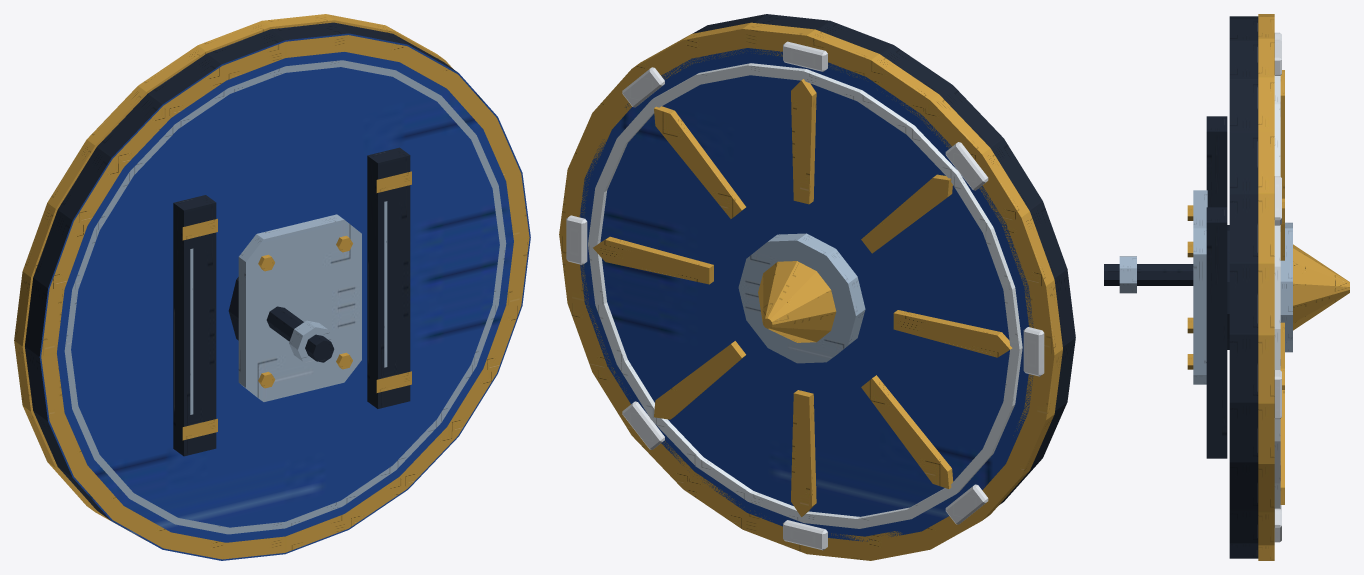
The model's file is guardian.glb.
The picture shows the model from 3 angles, left to right: view 1: azimuth 30°, elevation 25°; view 2: azimuth 150°, elevation 25°; view 3: azimuth 270°, elevation 25°; orthographic projection. The views are drawn at different scales.
Visible parts, largest first — view 1: plate, mount; view 2: plate; view 3: plate, mount.
Part boxes in pixels (box(x1,y1,x2,y2)): plate: box(14, 14, 530, 560); mount: box(266, 306, 334, 363); plate: box(559, 14, 1075, 560); plate: box(1187, 14, 1349, 560); mount: box(1104, 256, 1193, 293).
Bounding box in the file's own units: 0.7 × 0.7 × 0.3135.
6 materials, 6 textured.
